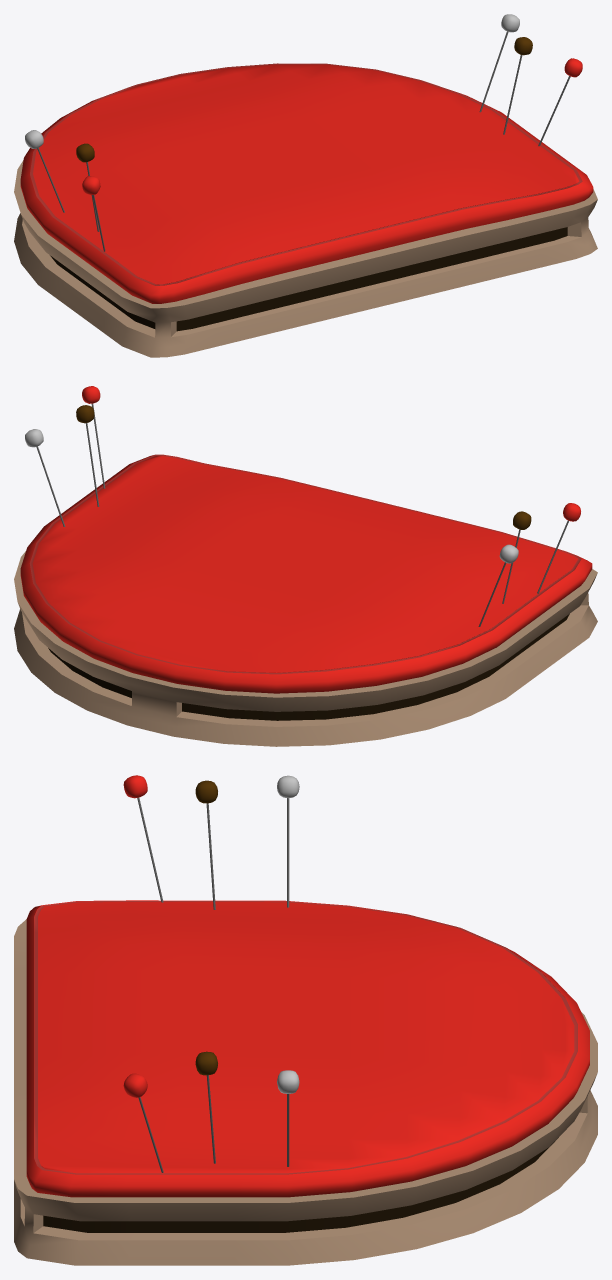
Rendered from Level.2.fbx.
3 views of the same model, one above another, from view 1: azimuth 30°, elevation 25°; view 2: azimuth 150°, elevation 25°; view 3: azimuth 270°, elevation 25° (orthographic). The views are drawn at different scales.
Visible parts, largest first — view 1: Level.2; view 2: Level.2; view 3: Level.2.
Boxes of the visible parts, x1=… form: Level.2: x1=14, y1=14, x2=597, y2=357; Level.2: x1=14, y1=386, x2=597, y2=746; Level.2: x1=14, y1=775, x2=597, y2=1265.
Bounding box in the file's own units: 3173 × 970 × 2532.
